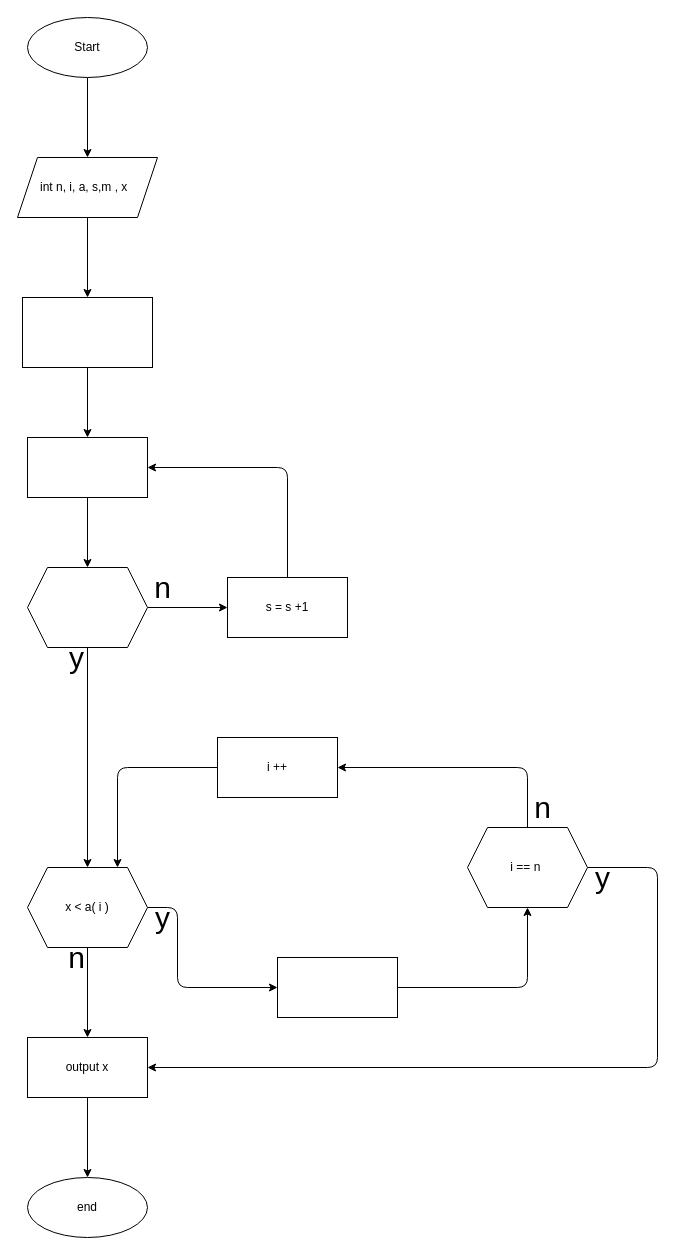
Image size: 683x1255. Some labels were removed from this diagram. Each missing label, with the centre of its shape:
"i = 0 x = 0 s=0 input n" goes at (87,332).
"input a(s)" goes at (87,467).
"s == n" goes at (87,607).
"x = a ( i )" goes at (337,987).
